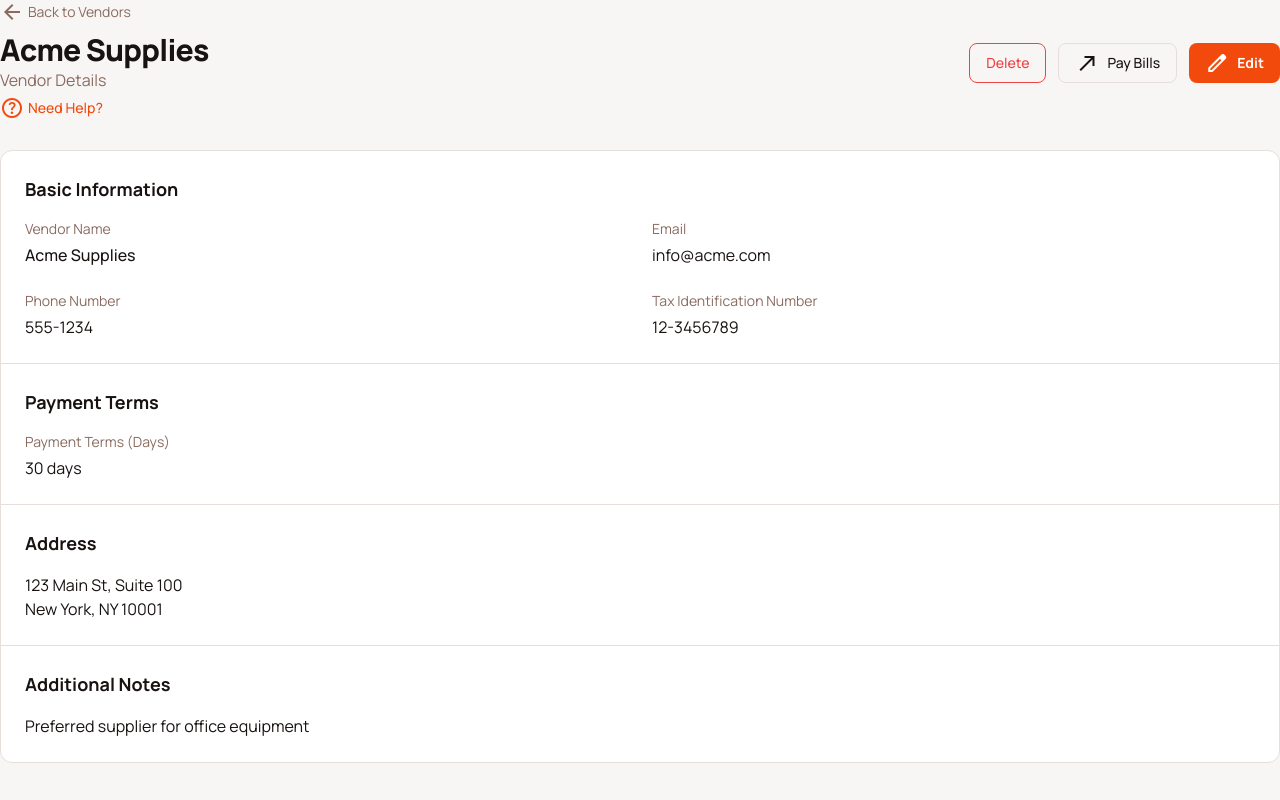
VendorDetailPage › delete functionality › opens delete confirmation modal when delete button clicked
This screenshot has width=1280, height=800.
Click the button with test id "vendor-detail-delete": x=1008, y=63 [969,43,1046,83]
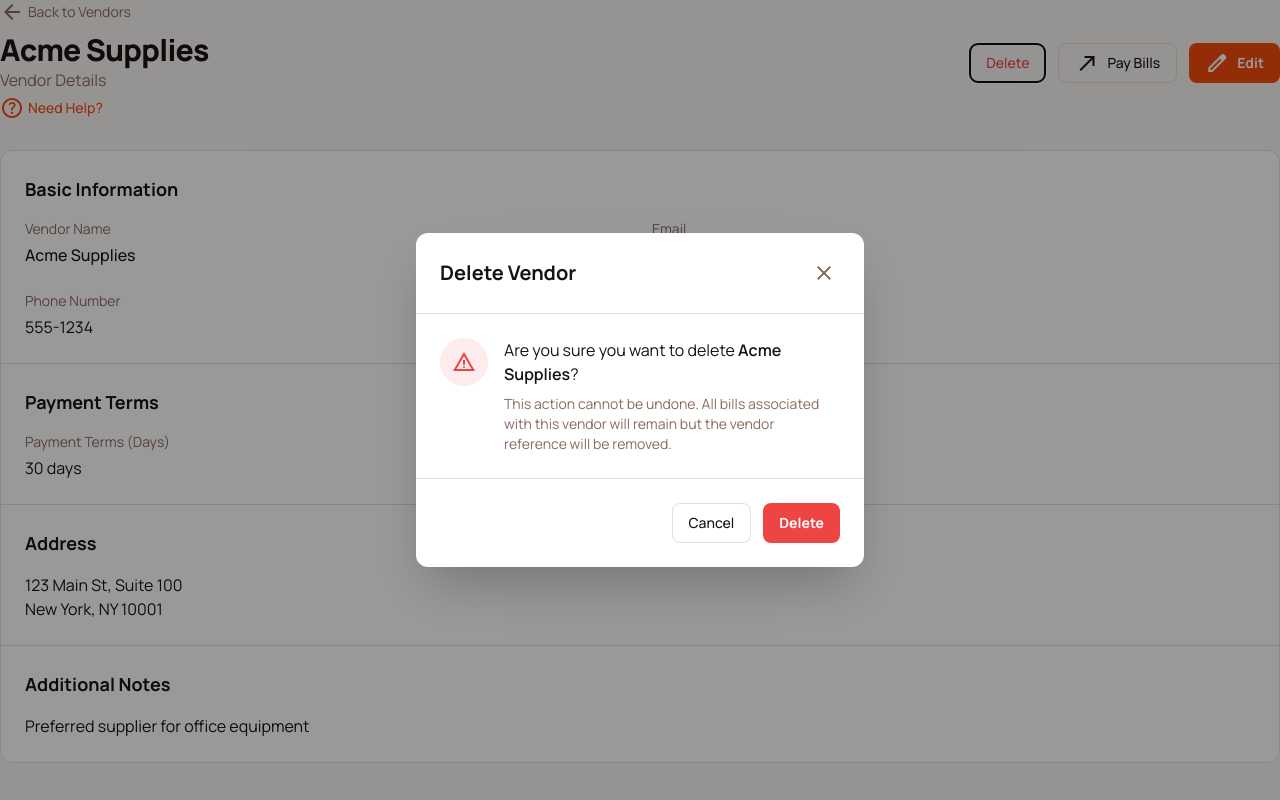
Result: the element with test id "delete-confirmation-modal" is shown
